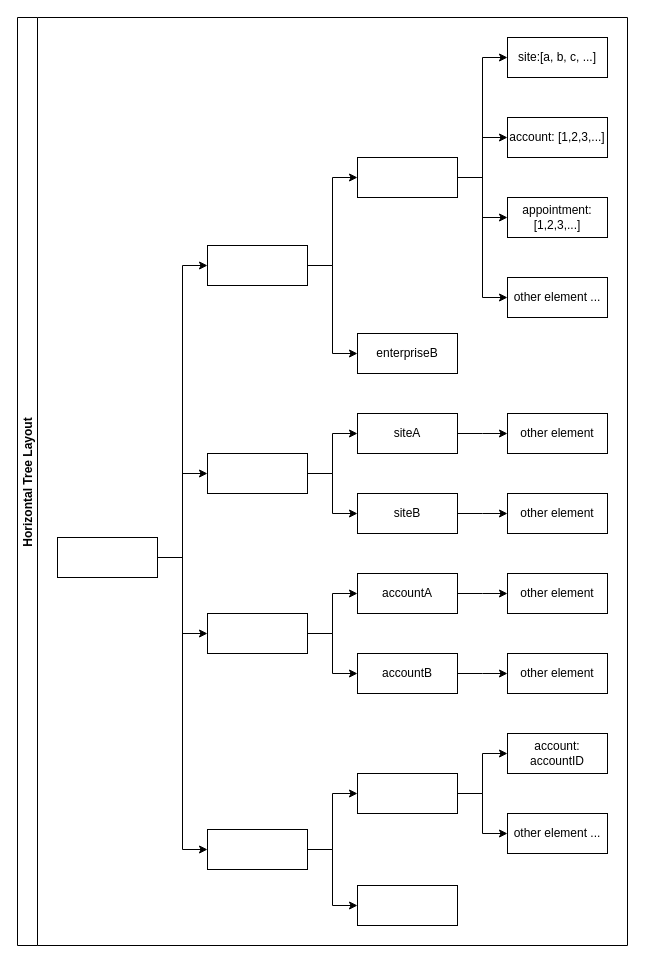
This 645x963 diagram has some shape labels left out. The centre of each missing label's shape, as x and y in pixels:
account: (x=257, y=633)
appointment: (x=257, y=849)
appointmentA: (x=407, y=793)
appointmentB: (x=407, y=905)
enterprise: (x=257, y=265)
enterpriseA: (x=407, y=177)
root: (x=107, y=557)
site: (x=257, y=473)
